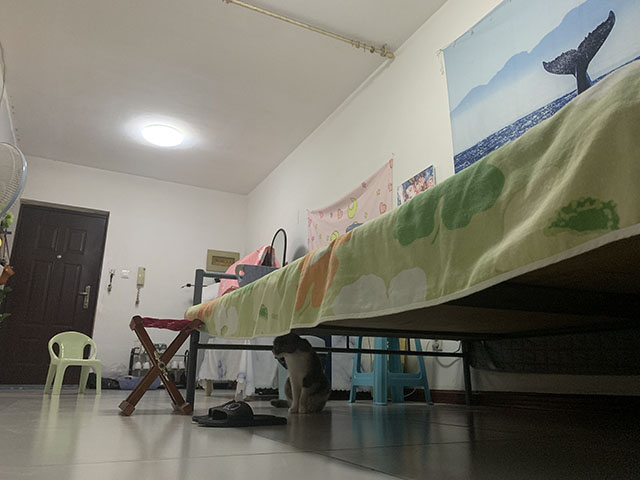bed: (186, 54, 639, 416)
stool: (118, 314, 203, 416), (349, 336, 432, 407), (41, 330, 103, 395), (191, 399, 289, 428)
